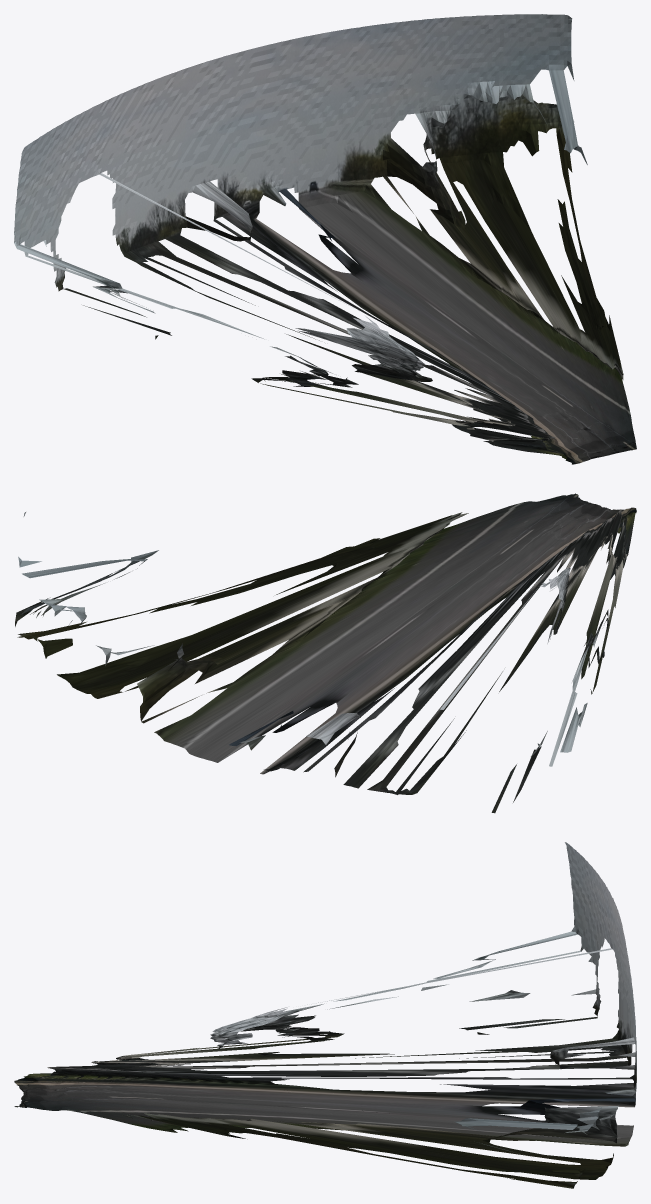
The picture shows the model from 3 angles, top to bottom: view 1: azimuth 30°, elevation 25°; view 2: azimuth 150°, elevation 25°; view 3: azimuth 270°, elevation 25°; orthographic projection. The views are drawn at different scales.
Visible parts, largest first — view 1: defaultobject; view 2: defaultobject; view 3: defaultobject.
Boxes of the visible parts, bbox=[...] form: defaultobject: bbox=[14, 14, 636, 464]; defaultobject: bbox=[15, 493, 636, 813]; defaultobject: bbox=[14, 842, 636, 1188].
Bounding box in the file's own units: 41.08 × 13.3 × 44.74.
Materials: 1 (1 with a texture image).
